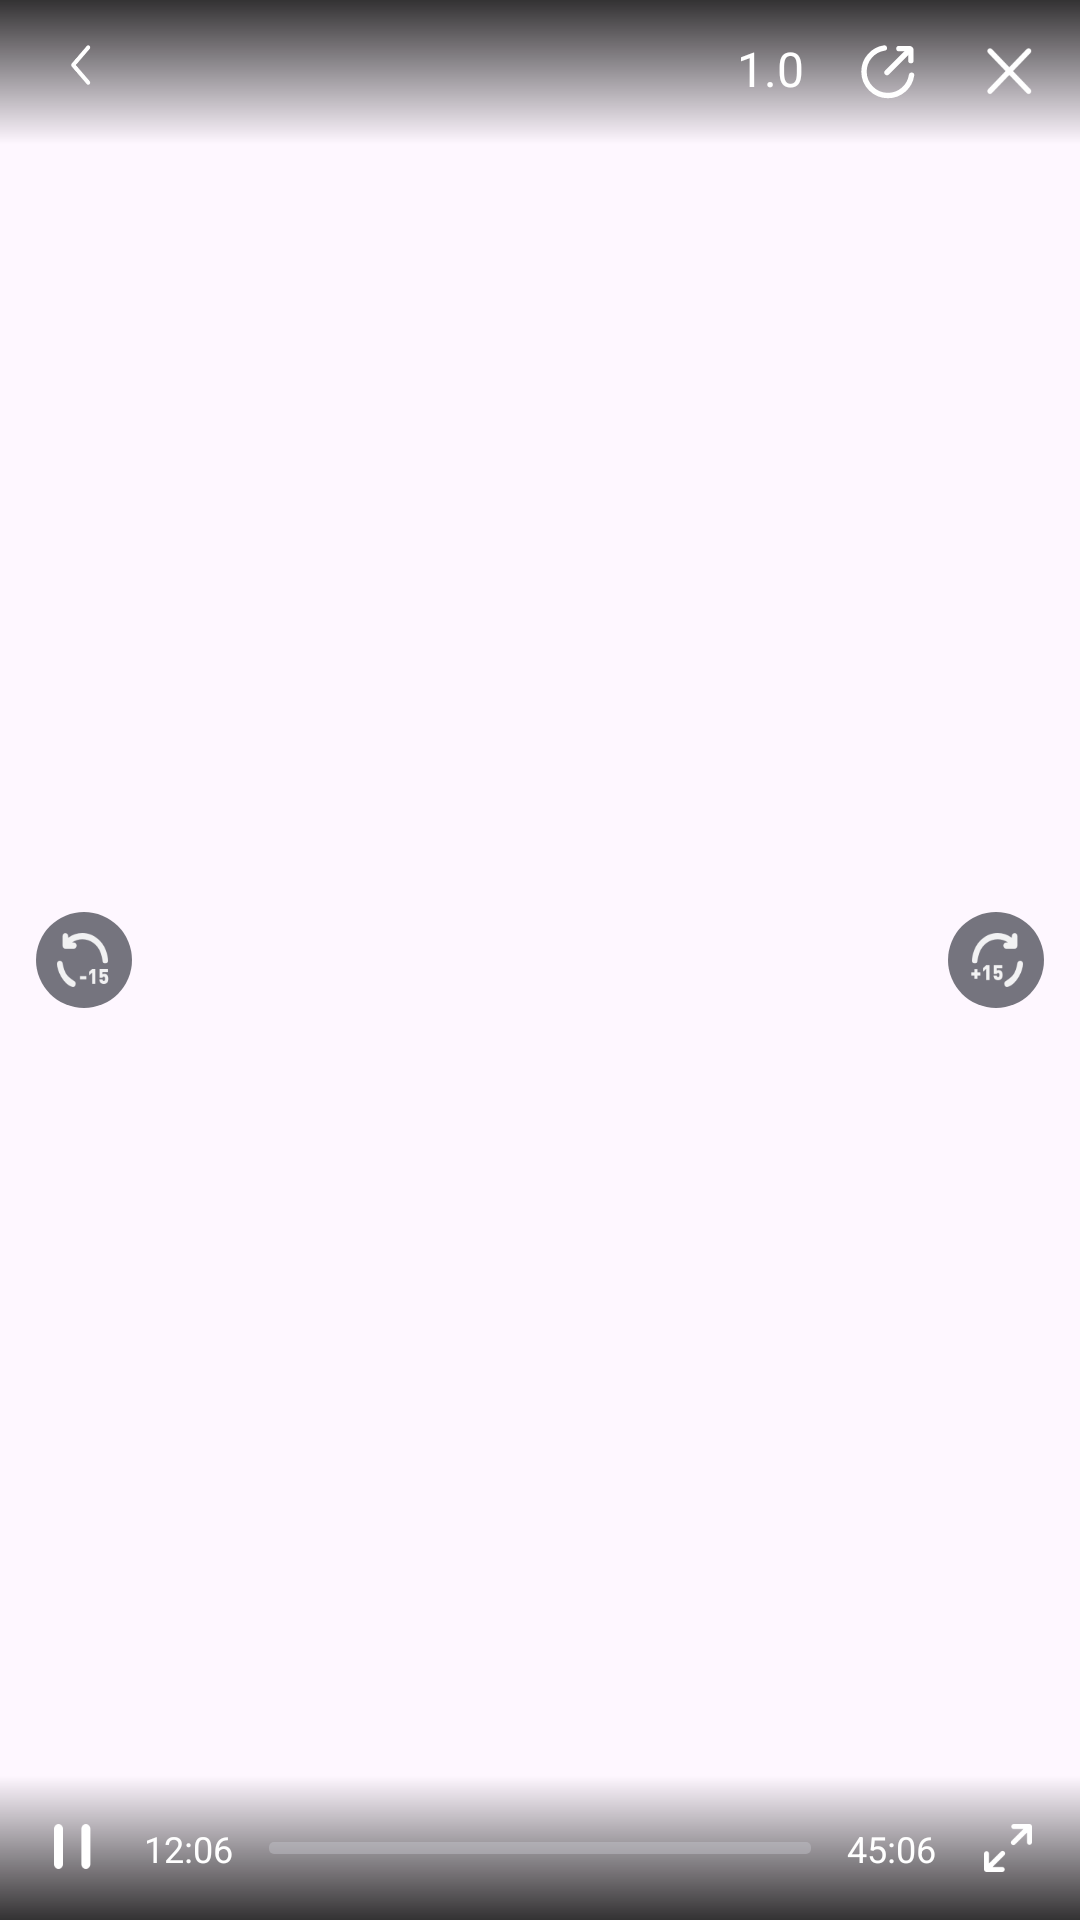

Point at icon controls on the screen. Image size 1080 x 1920, points as (x=x, y=y).
live play forward: (x=996, y=960)
live play rewind: (x=84, y=960)
